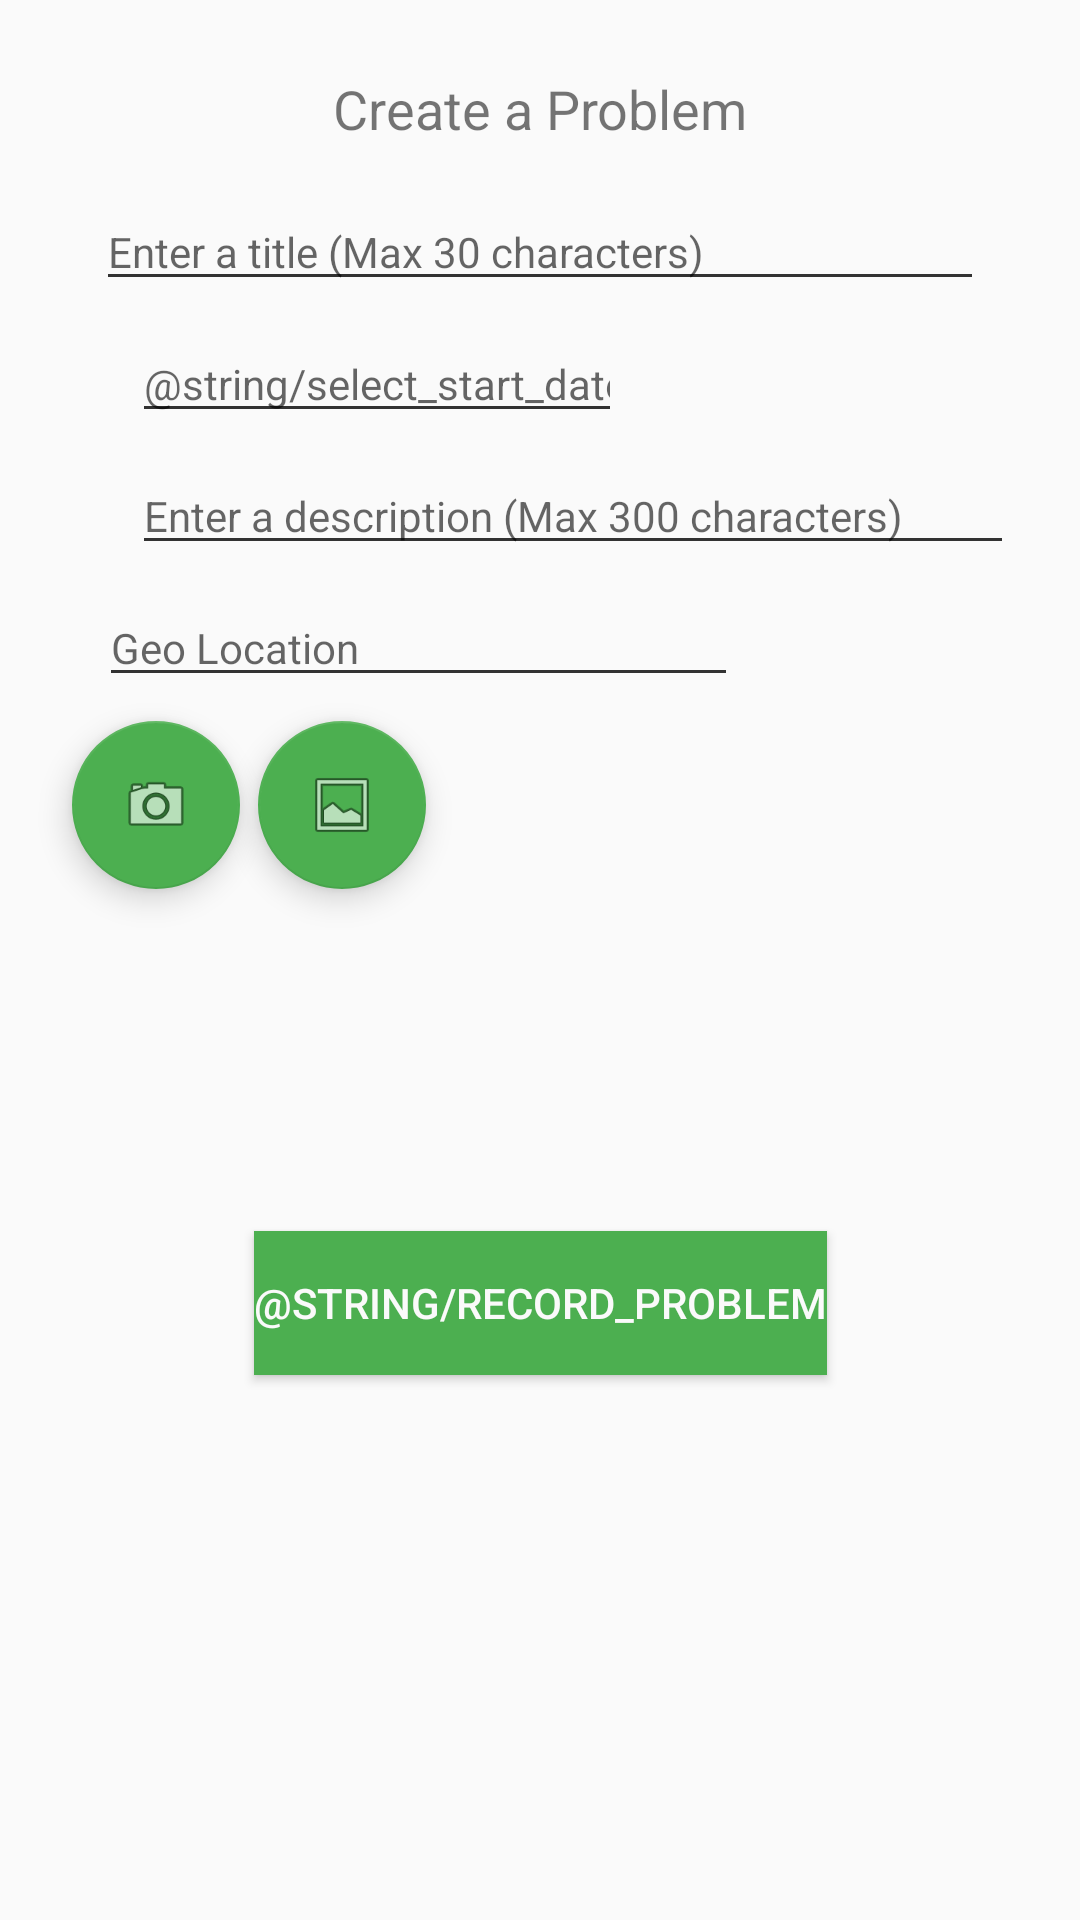

Icon click points for this 1080px x 1920px phone screenshot, format point (x, y):
camera: point (156, 805)
gallery: point (342, 805)
